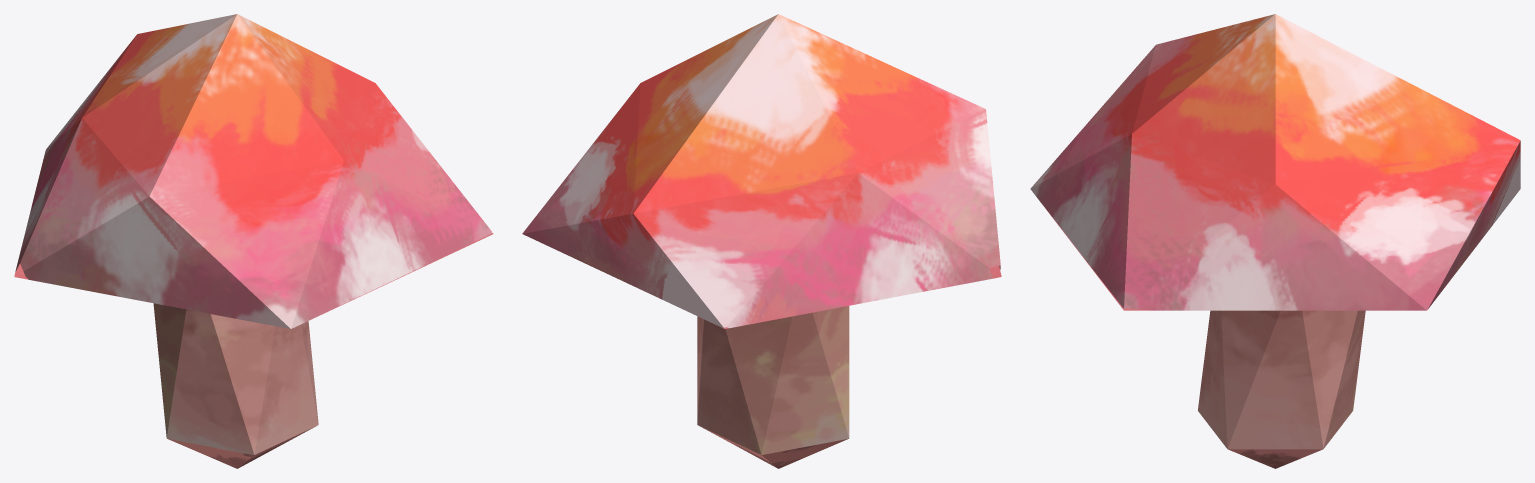
File: mushroom08.fbx
3 views of the same model, side by side, from view 1: azimuth 30°, elevation 25°; view 2: azimuth 150°, elevation 25°; view 3: azimuth 270°, elevation 25° (orthographic).
Visible parts, largest first — view 1: mushroom08; view 2: mushroom08; view 3: mushroom08.
Boxes of the visible parts, x1,y1,x2,y2 form: mushroom08: (14, 14, 493, 468); mushroom08: (522, 14, 1001, 468); mushroom08: (1030, 14, 1520, 468).
Size of the model in its own units: 92.81 by 99.89 by 97.59.
1 material, 1 textured.
